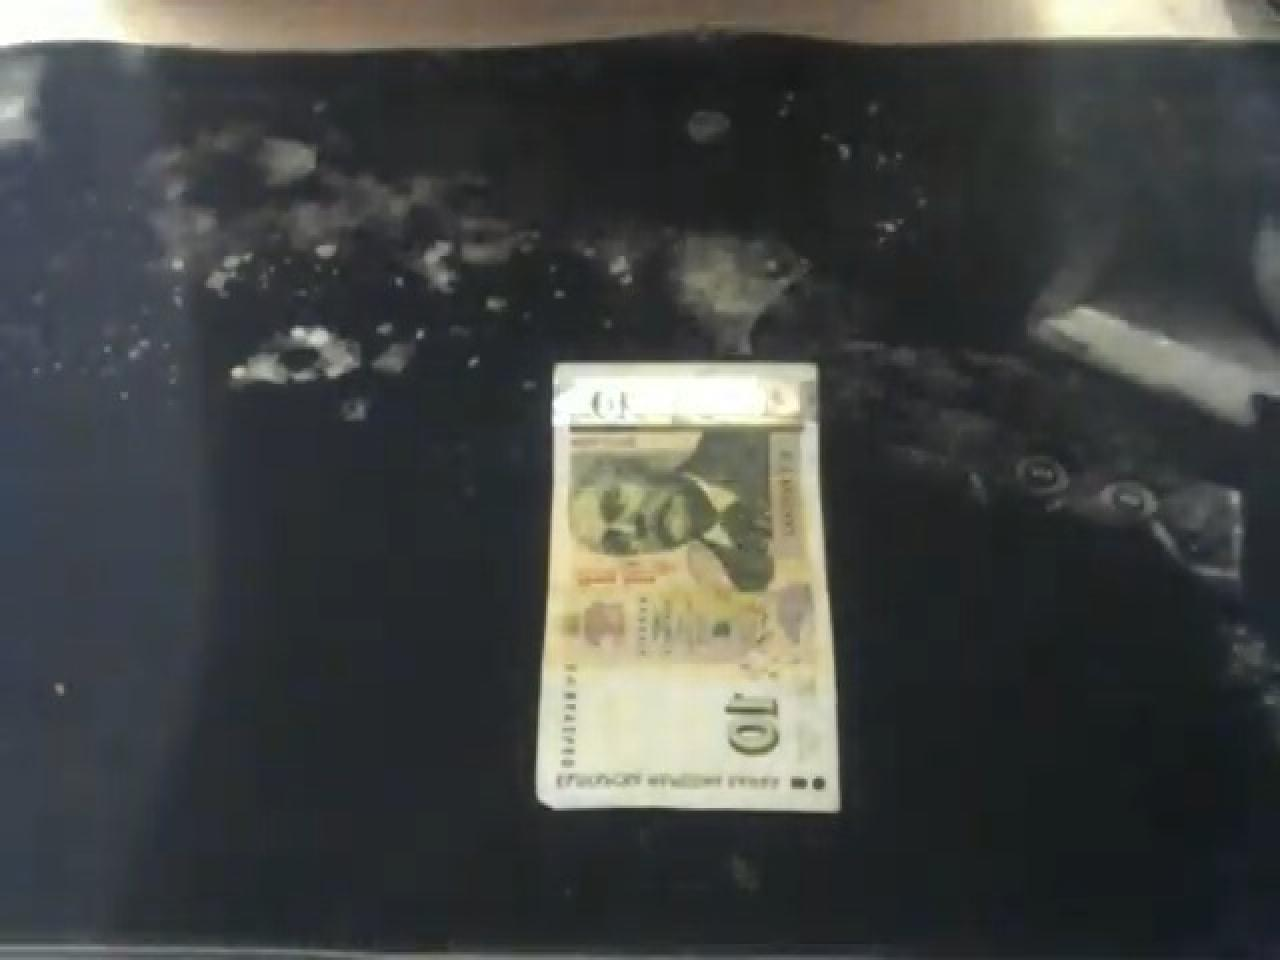10leva: (716, 689, 798, 770)
